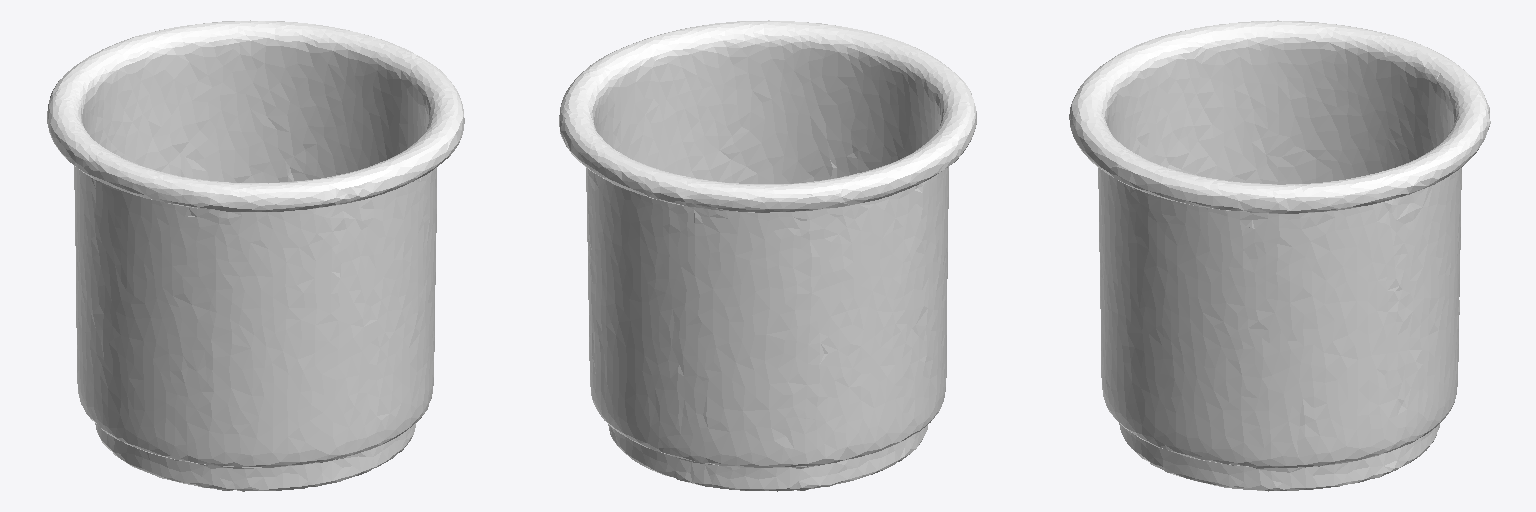
URDF robot description (065-g_cups):
<?xml version="1.0" ?>
<robot name="065-g_cups">
    <link name="baseLink">
        <contact>
        <friction_anchor/>
        <lateral_friction value="1.5"/>
        <rolling_friction value="0.1"/>
        <spinning_friction value="0.1"/>
        <contact_cfm value="1e-5"/>
        <contact_erp value="0.8"/>
        </contact>
        <visual>
            <origin rpy="0 0 0" xyz="0 0 0"/>
            <geometry>
                <mesh filename="assets/objects/065-g_cups/meshes/065-g_cups_textured.obj" scale="1 1 1"/>
            </geometry>
            <material name="white">
                <color rgba="1 1 1 1"/>
            </material>
        </visual>
        <collision>
            <origin rpy="0 0 0" xyz="0 0 0"/>
            <geometry>
                <mesh filename="assets/objects/065-g_cups/meshes/065-g_cups_textured.obj" scale="1 1 1"/>
            </geometry>
        </collision>
        <inertial>
            <origin rpy="0 0 0" xyz="0 0 0"/>
            <mass value="1.0"/>
            <inertia ixx="0.1" ixy="0" ixz="0" iyy="0.1" iyz="0" izz="0.1"/>
        </inertial>
    </link>
</robot>

--- Facts derived from the render (not from the file) ---
3 views of the same robot in one strip: view 1: azimuth 30°, elevation 25°; view 2: azimuth 150°, elevation 25°; view 3: azimuth 270°, elevation 25° (orthographic).
Model 065-g_cups with 1 links and 0 joints (none), rooted at baseLink, posed every joint at zero.
Visible links, largest first — view 1: baseLink; view 2: baseLink; view 3: baseLink.
Boxes of the visible links, x1=… form: baseLink: x1=47, y1=20, x2=464, y2=491; baseLink: x1=559, y1=20, x2=976, y2=491; baseLink: x1=1069, y1=20, x2=1490, y2=491.
Bounding box of the posed robot: 0.0868 × 0.0877 × 0.074 m (x, y, z).
1 mesh visuals loaded from 1 distinct referenced files (1 OBJ).
